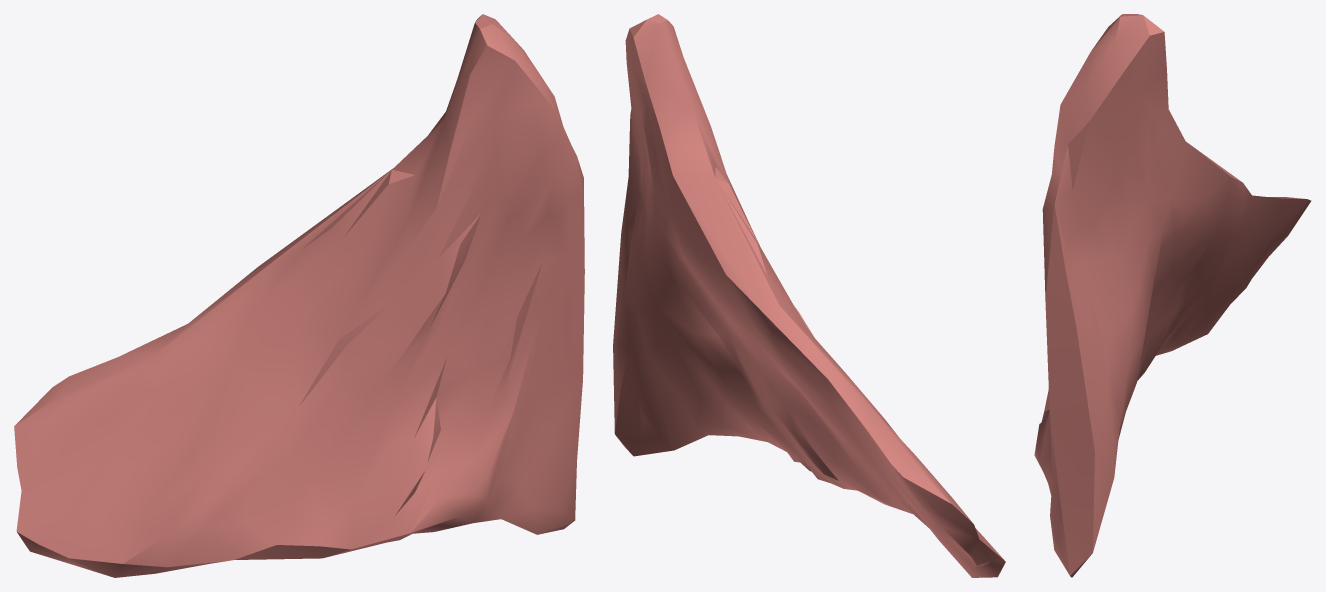
Rendered from fma55608_mm1092m.glb.
The picture shows the model from 3 angles, left to right: view 1: azimuth 30°, elevation 25°; view 2: azimuth 150°, elevation 25°; view 3: azimuth 270°, elevation 25°; orthographic projection. The views are drawn at different scales.
Visible parts, largest first — view 1: FMA55608_MM1092M; view 2: FMA55608_MM1092M; view 3: FMA55608_MM1092M.
Boxes of the visible parts, bbox=[...] form: FMA55608_MM1092M: bbox=[14, 14, 584, 577]; FMA55608_MM1092M: bbox=[613, 14, 1005, 577]; FMA55608_MM1092M: bbox=[1034, 14, 1311, 577].
Bounding box in the file's own units: 0.0165 × 0.0163 × 0.00763.
